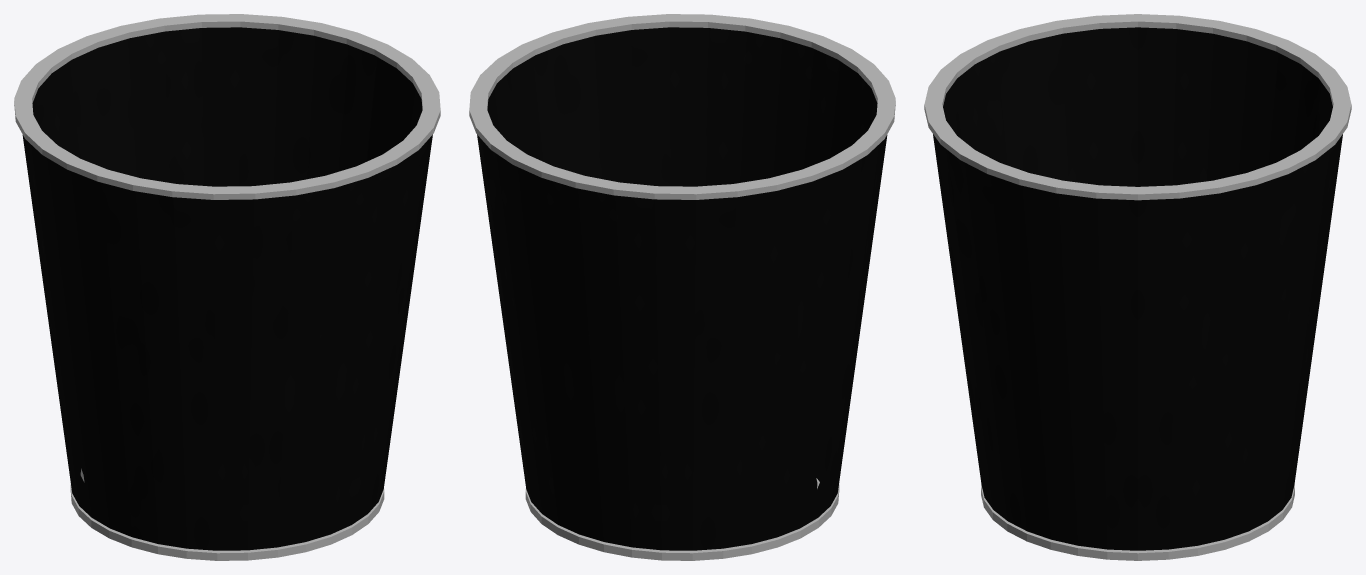
File: Papertosser.fbx
3 renders of one model, left to right at view 1: azimuth 30°, elevation 25°; view 2: azimuth 150°, elevation 25°; view 3: azimuth 270°, elevation 25°, orthographic.
Visible parts, largest first — view 1: PaperTosserClean; view 2: PaperTosserClean; view 3: PaperTosserClean.
Part boxes in pixels (left/top/right/bottom): PaperTosserClean: left=14, top=14, right=440, bottom=560; PaperTosserClean: left=469, top=14, right=895, bottom=560; PaperTosserClean: left=924, top=14, right=1351, bottom=560.
Bounding box in the file's own units: 115 × 122 × 115.
